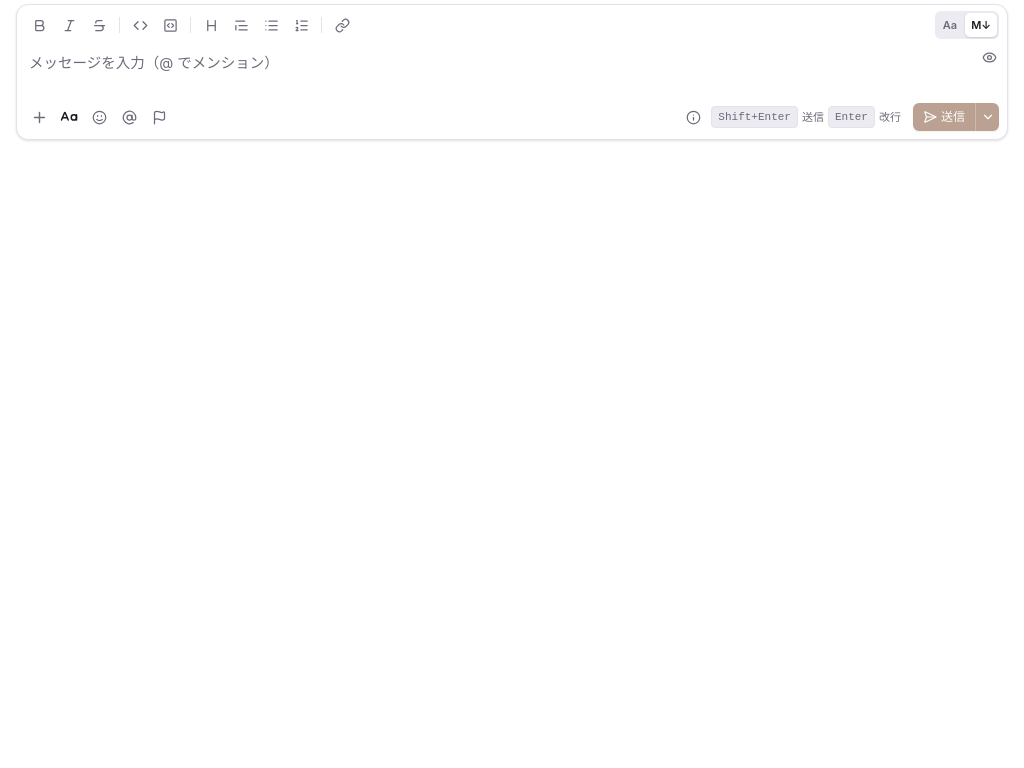
Test: the composer's rows (tester, 2026-09-30) › the ▾ beside 送信 opens 「後で送信」
Type "あとで" into the text box at (494, 71), box [17,39,971,103]
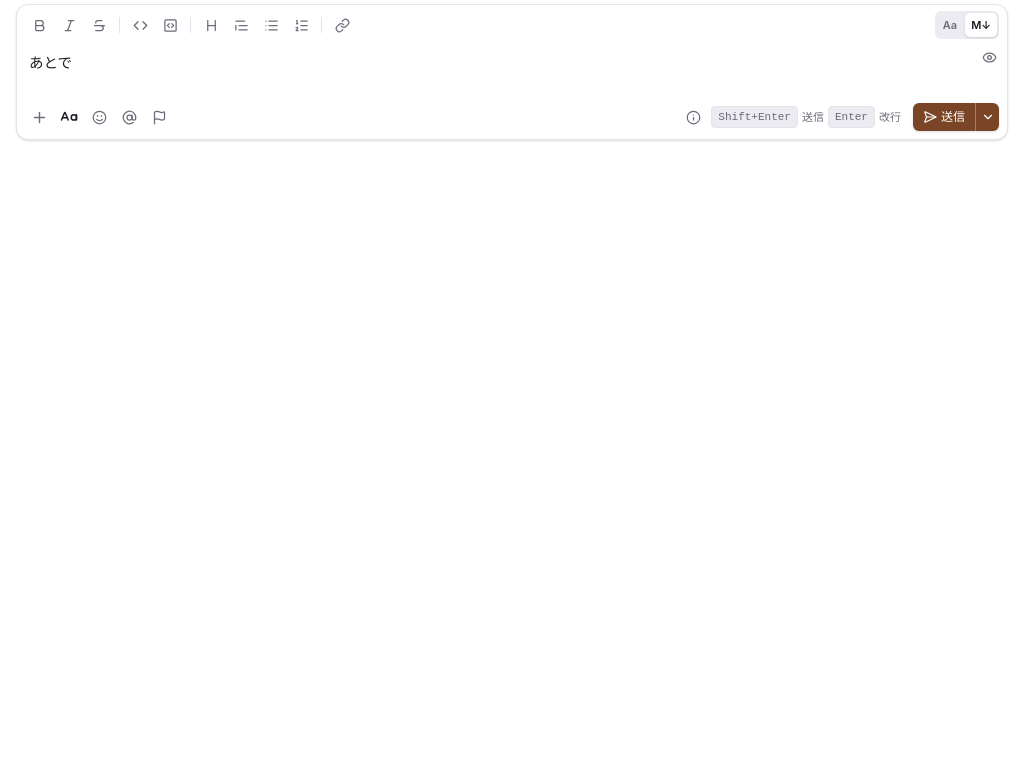
Click the button named "後で送信" at (987, 117), box [975,103,999,131]
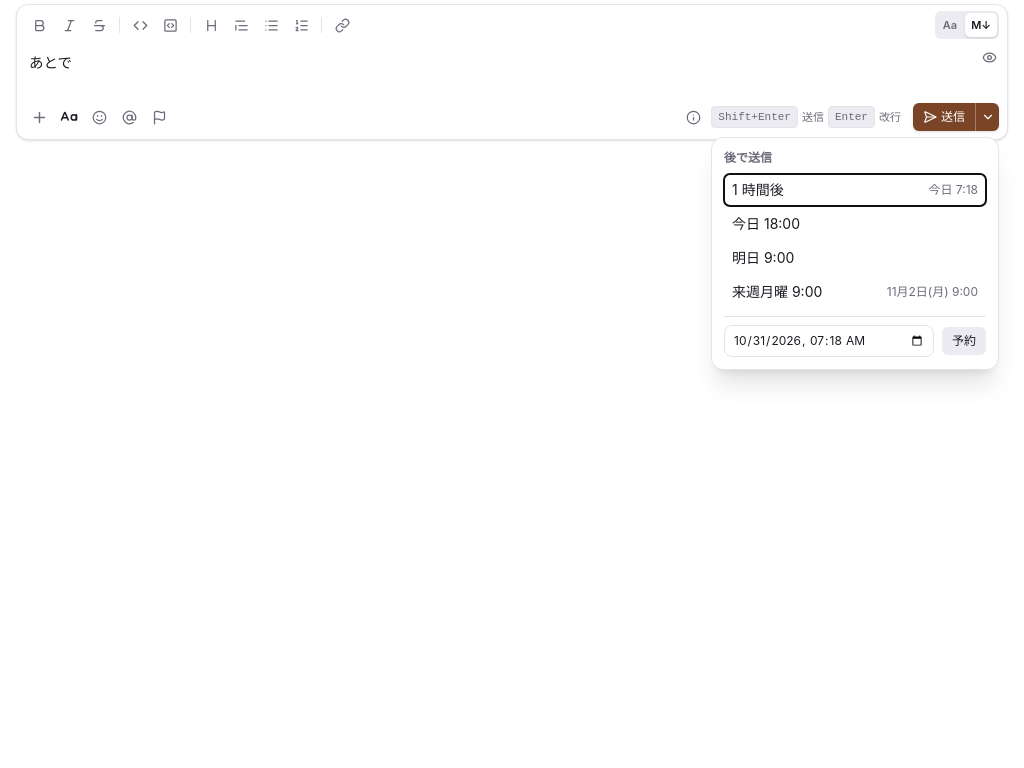
Expected: the field named "日時を指定" is shown, [724,325,934,357]
Expected: the button "予約" is shown, [942,327,986,355]
